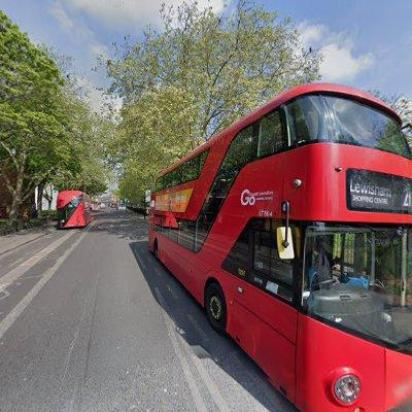moving-bus: (146, 82, 412, 412), (54, 190, 92, 230)
